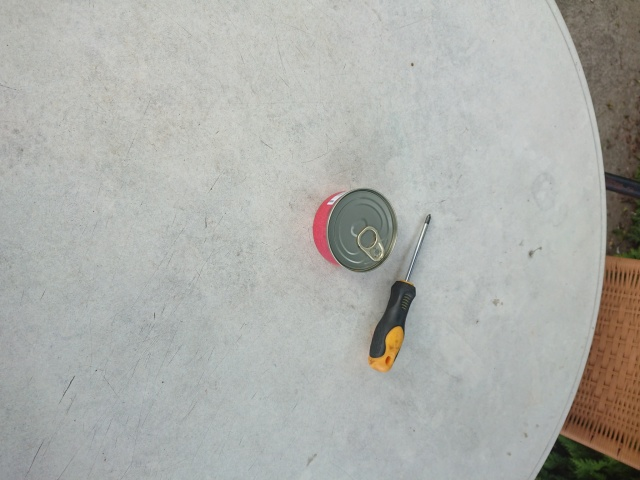Gavrilovic Pork Liver Pate 100g: (309, 185, 398, 274)
